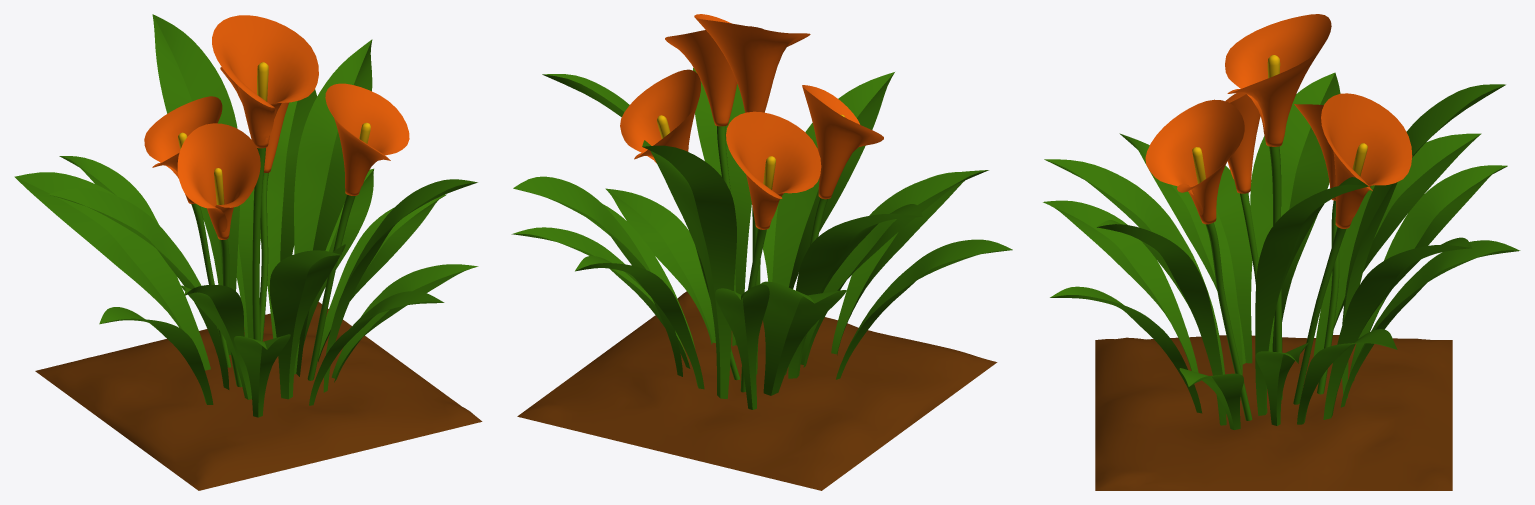
File: orange-calla.glb
The picture shows the model from 3 angles, left to right: view 1: azimuth 30°, elevation 25°; view 2: azimuth 150°, elevation 25°; view 3: azimuth 270°, elevation 25°; orthographic projection. The views are drawn at different scales.
Visible parts, largest first — view 1: 4_nft_bloom; view 2: 4_nft_bloom; view 3: 4_nft_bloom.
Boxes of the visible parts, left/top/right/bottom form: 4_nft_bloom: left=14, top=14, right=482, bottom=490; 4_nft_bloom: left=511, top=14, right=1012, bottom=490; 4_nft_bloom: left=1043, top=14, right=1520, bottom=490.
Size of the model in its own units: 0.9841 by 0.8496 by 0.938.
